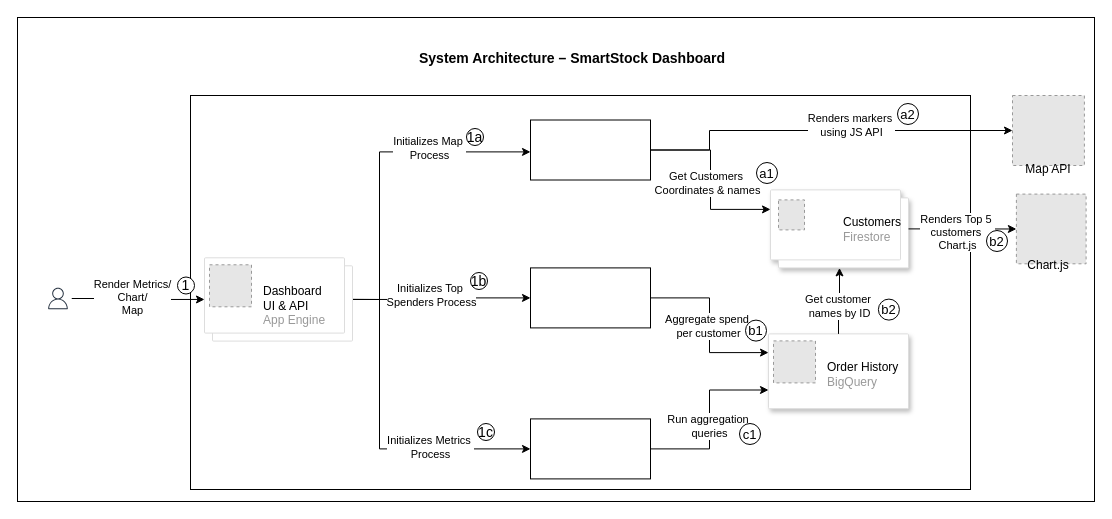
Image size: 1112x519. Some labels were removed from this diagram. Grey dashed boxes stand in for pictures. The shapes that lost their labels are listed below. From the top down, each one's centre as x and y in pixels, then its label:
(590,149): Customer & Warehouse Map (Google Maps JS API)
(58,298): Store Staff
(590,297): Top Spenders Chart (BigQuery + Firestore Join)
(590,448): Metrics API Lookup (from BigQuery)
